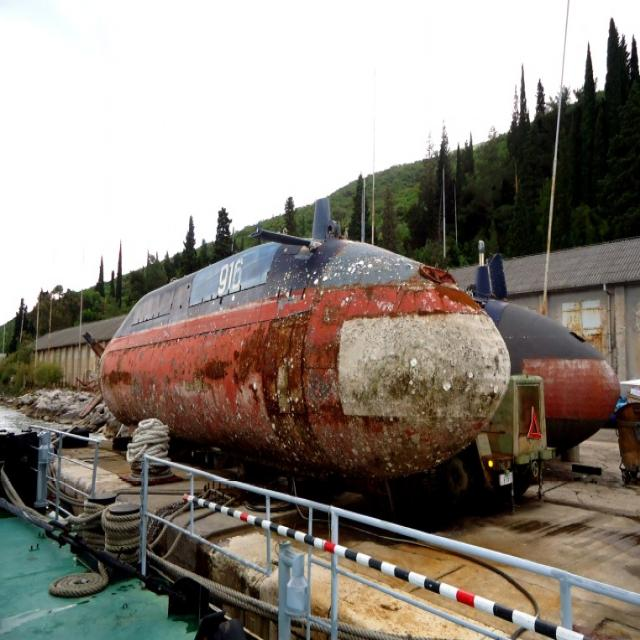submarine: (82, 200, 507, 491), (347, 223, 624, 449)
